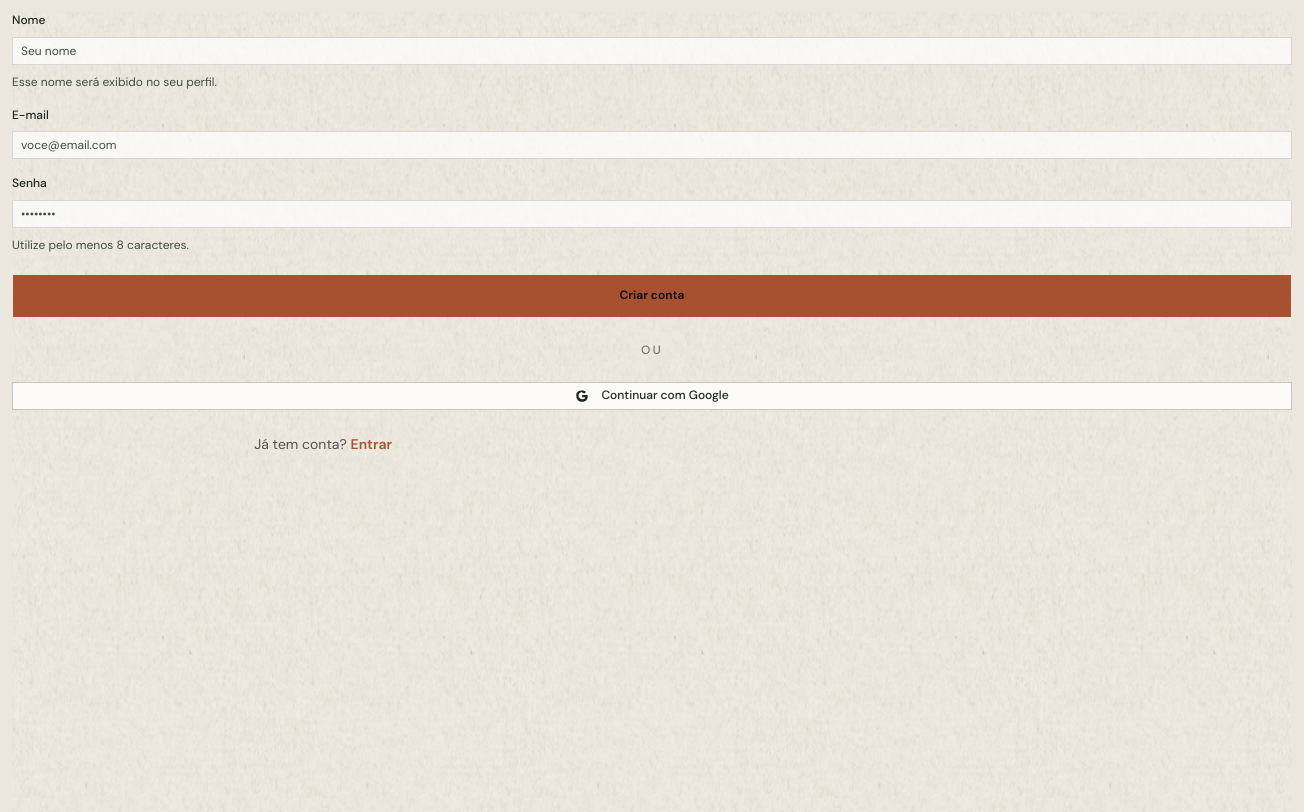
SignUpForm › valida senha com menos de 8 caracteres
Type "Douglas" into the field with placeholder "Seu nome".
click(652, 50); type("Douglas")  # box [12, 36, 1292, 64]
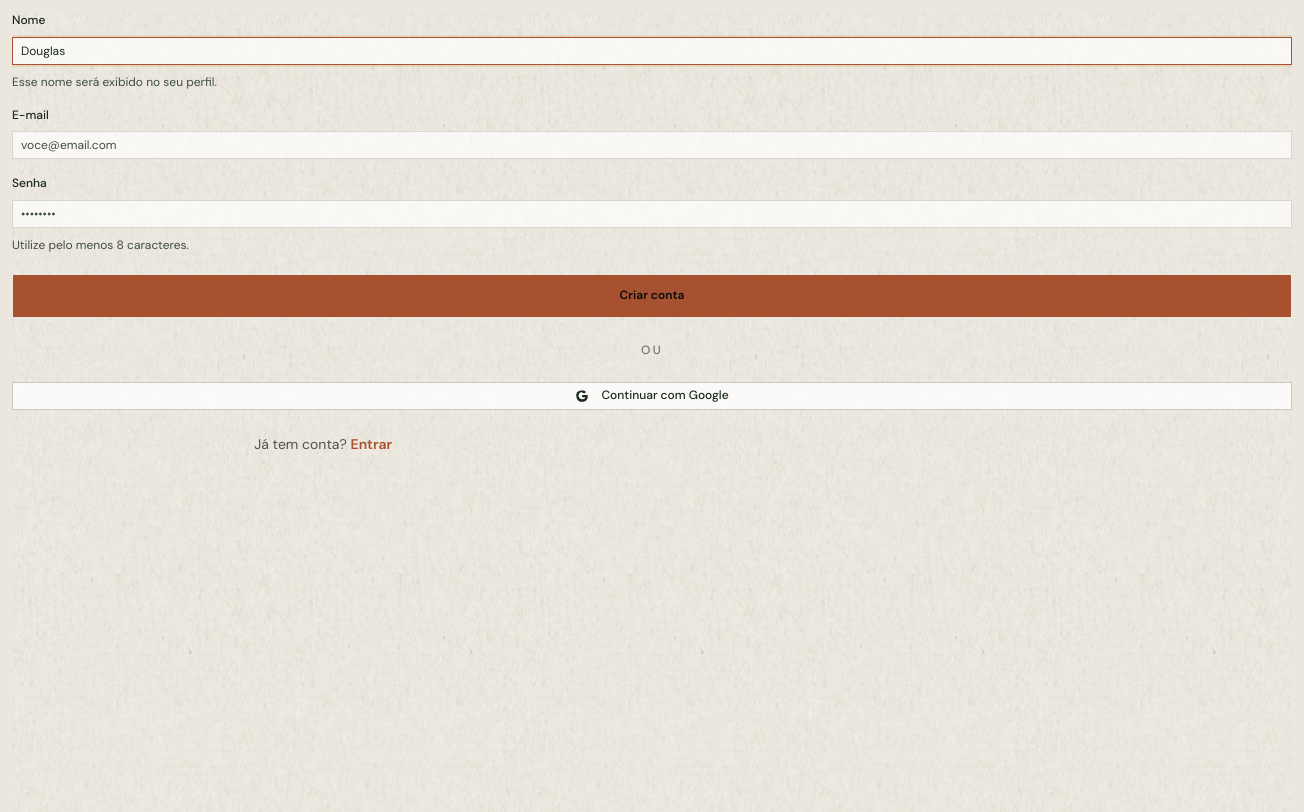
Type "douglas@email.com" into the field with placeholder "voce@email.com".
click(652, 145); type("douglas@email.com")  # box [12, 131, 1292, 159]
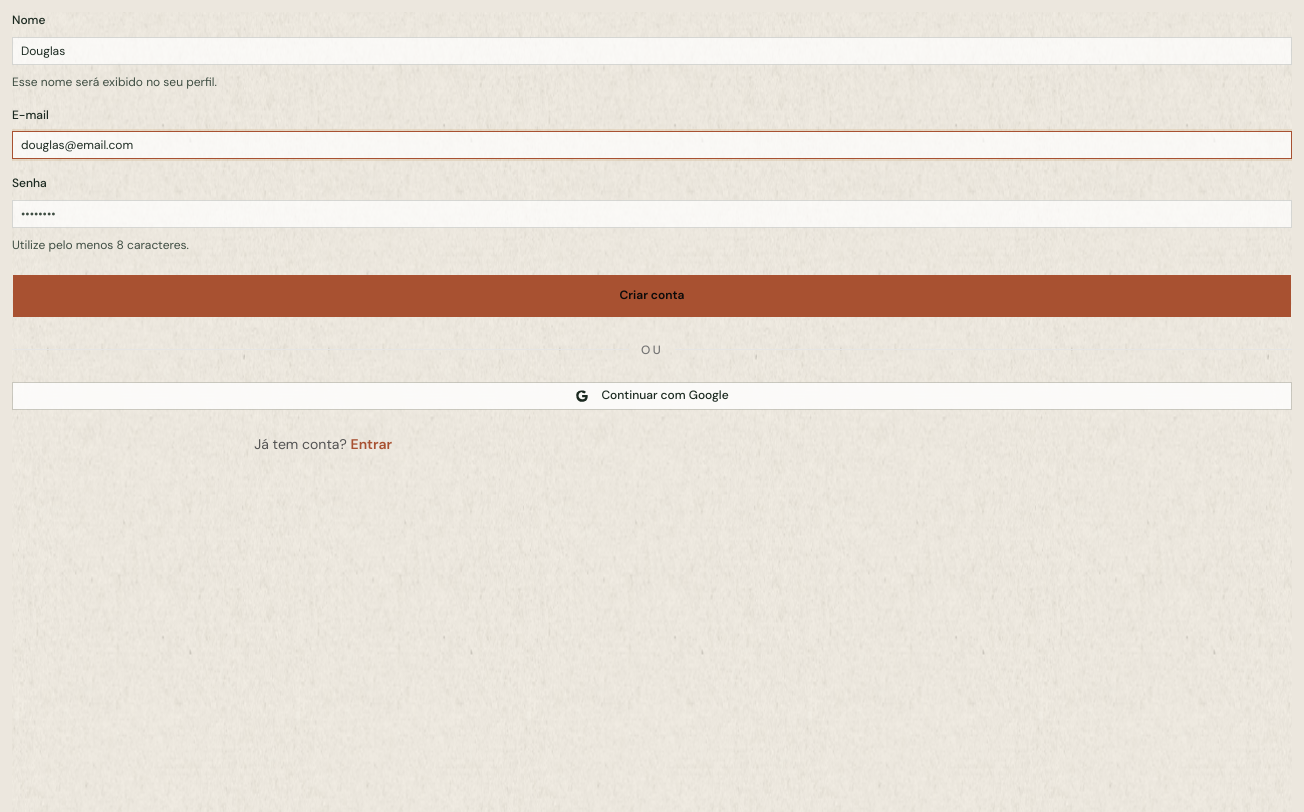
Type "1234567" into the password field with placeholder "••••••••".
click(652, 214); type("1234567")  # box [12, 200, 1292, 228]
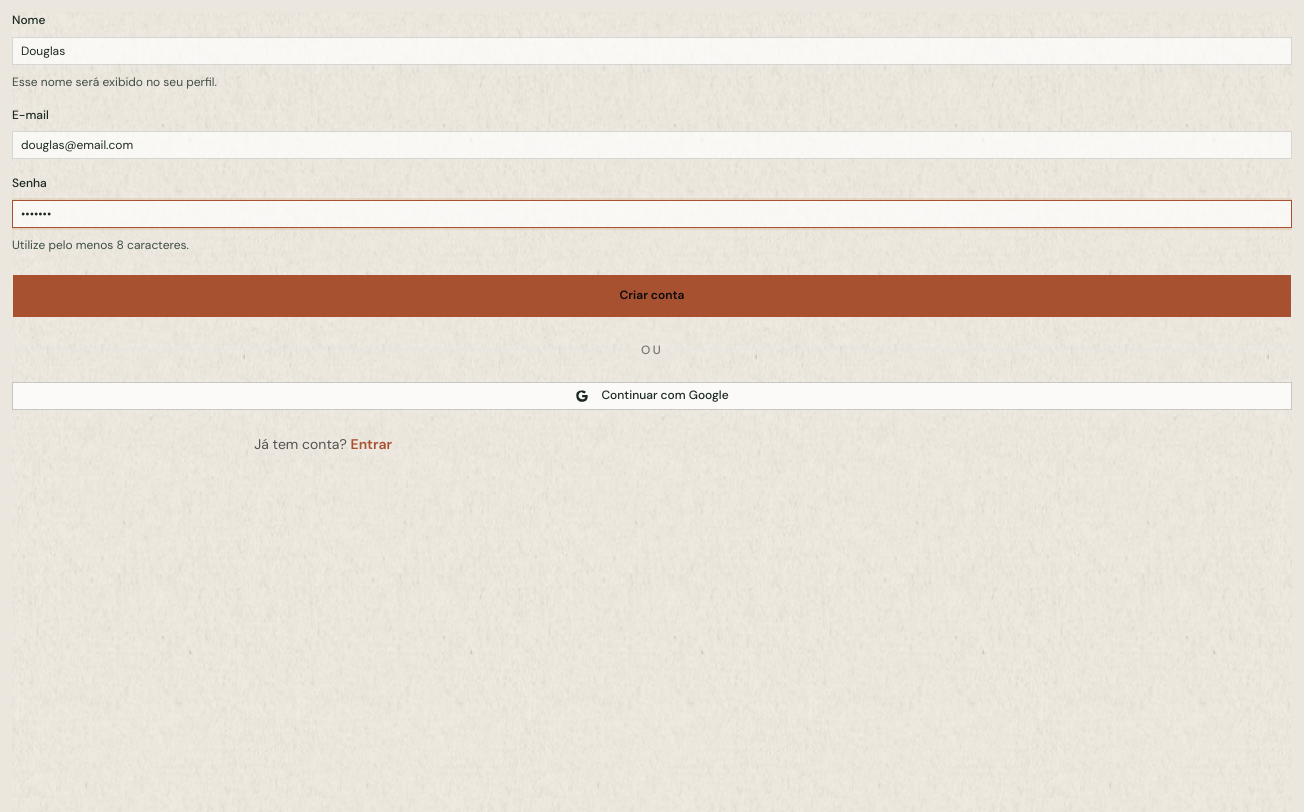
Click the button "Criar conta".
click(652, 296)  # box [12, 274, 1292, 318]
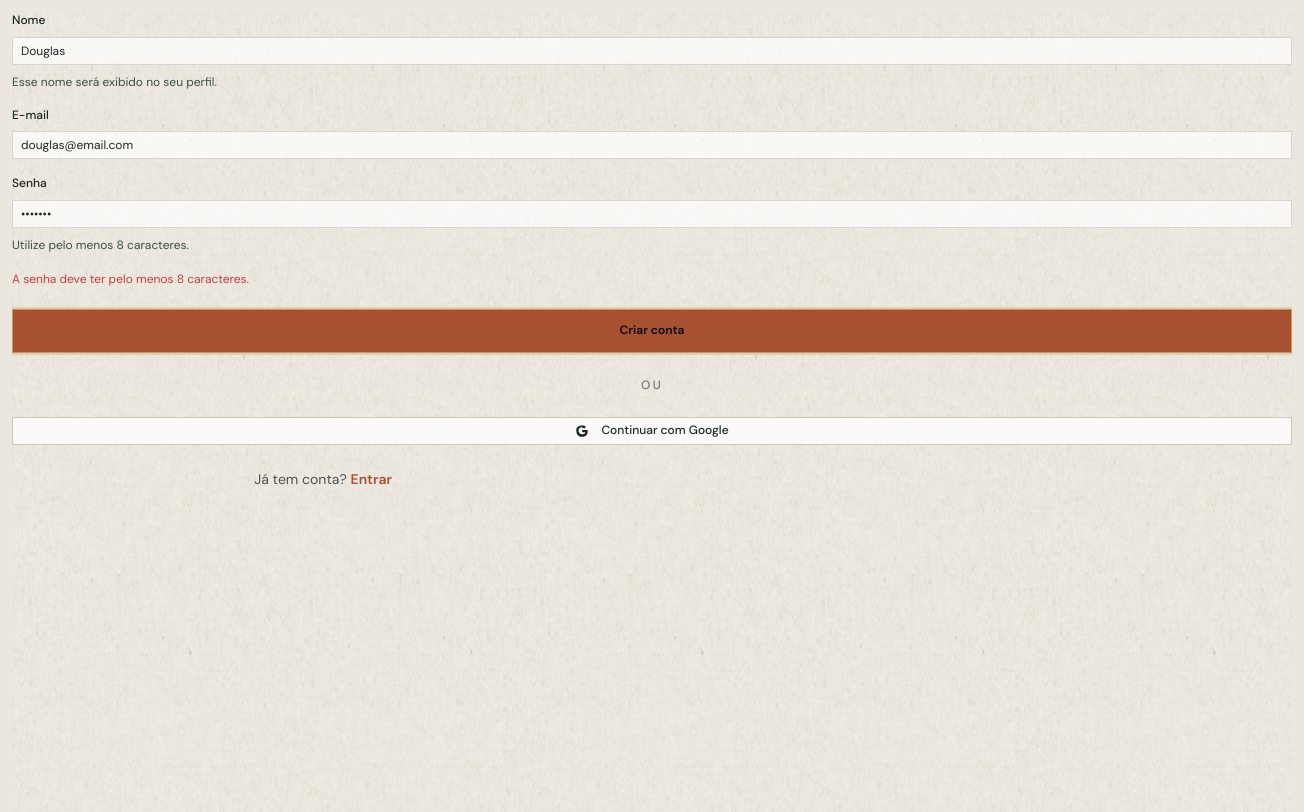
Expected: the text "A senha deve ter pelo menos 8 caracteres." is shown, [12, 270, 249, 286]
